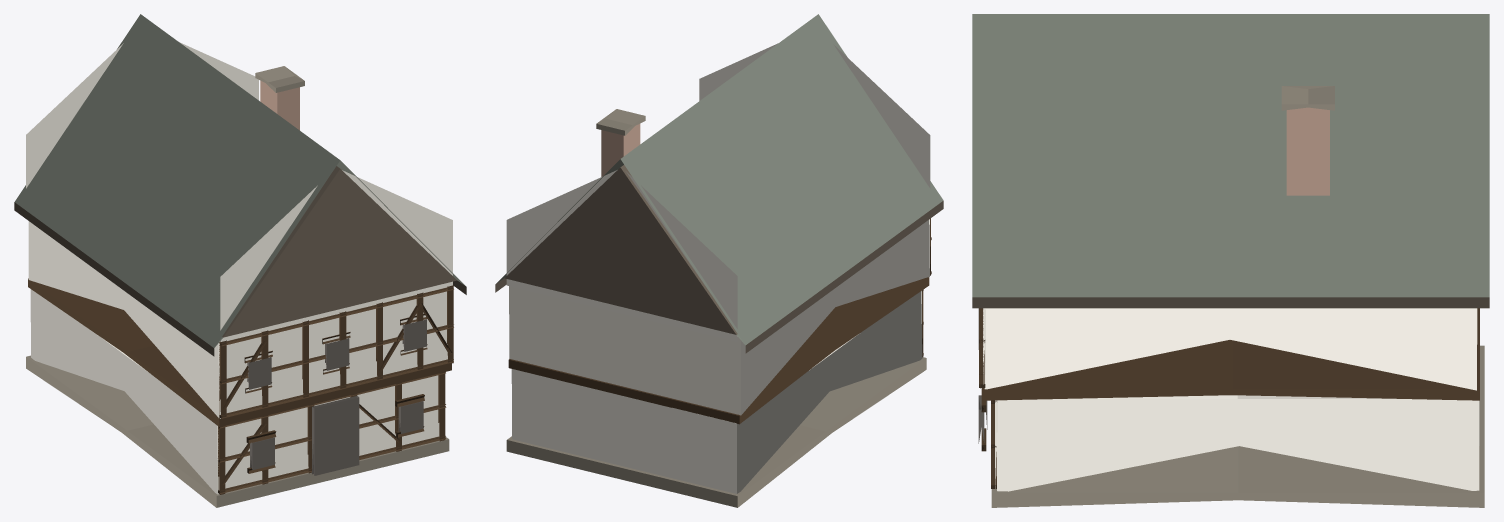
The model's file is fv_burgage_l2.glb.
3 renders of one model, left to right at view 1: azimuth 30°, elevation 25°; view 2: azimuth 150°, elevation 25°; view 3: azimuth 270°, elevation 25°, orthographic. The views are drawn at different scales.
Visible parts, largest first — view 1: l2_roof.001, l2_front_uf_panel.001, l2_wall_gf.001, l2_footing.001, l2_wall_uf.001, l2_front_gf_panel.001, l2_gable_s.001, l2_jetty.001, l2_gable_n.001, l2_door.001, l2_chimney.001, l2_front_uf_rail2.001 (+16 smaller); view 2: l2_roof.001, l2_wall_gf.001, l2_wall_uf.001, l2_footing.001, l2_gable_n.001, l2_jetty.001, l2_gable_s.001, l2_chimney.001, l2_chimney_cap.001; view 3: l2_roof.001, l2_wall_gf.001, l2_wall_uf.001, l2_footing.001, l2_jetty.001, l2_chimney.001, l2_chimney_cap.001.
Boxes of the visible parts, <box> form: l2_roof.001: <box>14,14,466,356</box>; l2_front_uf_panel.001: <box>218,291,447,418</box>; l2_wall_gf.001: <box>30,289,218,494</box>; l2_footing.001: <box>26,355,449,507</box>; l2_wall_uf.001: <box>28,221,219,417</box>; l2_front_gf_panel.001: <box>217,375,439,494</box>; l2_gable_s.001: <box>220,170,452,341</box>; l2_jetty.001: <box>28,278,451,426</box>; l2_gable_n.001: <box>26,42,258,188</box>; l2_door.001: <box>312,396,359,475</box>; l2_chimney.001: <box>260,80,299,130</box>; l2_front_uf_rail2.001: <box>219,359,453,418</box>; l2_roof.001: <box>495,14,943,353</box>; l2_wall_gf.001: <box>511,291,922,493</box>; l2_wall_uf.001: <box>509,220,929,415</box>; l2_footing.001: <box>506,357,926,507</box>; l2_gable_n.001: <box>506,170,737,341</box>; l2_jetty.001: <box>508,277,929,424</box>; l2_gable_s.001: <box>699,43,930,188</box>; l2_chimney.001: <box>601,124,640,176</box>; l2_chimney_cap.001: <box>596,109,645,135</box>; l2_roof.001: <box>972,14,1489,308</box>; l2_wall_gf.001: <box>996,395,1479,491</box>; l2_wall_uf.001: <box>984,308,1477,390</box>; l2_footing.001: <box>991,345,1484,507</box>; l2_jetty.001: <box>984,308,1479,400</box>; l2_chimney.001: <box>1286,107,1329,195</box>; l2_chimney_cap.001: <box>1281,86,1334,110</box>.
Bounding box in the file's own units: 7.8 × 9.6 × 10.7.
